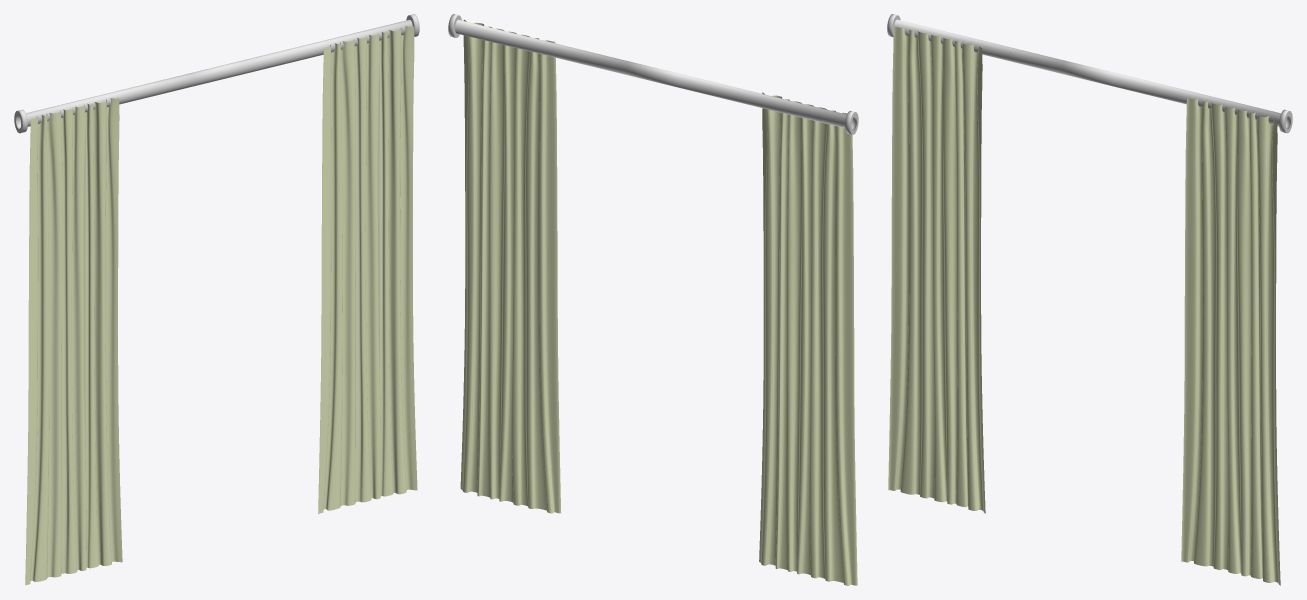
Rendered from gorden.fbx.
3 views of the same model, side by side, from view 1: azimuth 30°, elevation 25°; view 2: azimuth 150°, elevation 25°; view 3: azimuth 330°, elevation 25° (orthographic).
Parts seen in each view (by area): view 1: Arch60_011, Arch60_010, Sketchup; view 2: Arch60_011, Arch60_010, Sketchup; view 3: Arch60_011, Arch60_010, Sketchup.
Part boxes in pixels (left/top/right/bottom): Arch60_011: left=318, top=26, right=417, bottom=514; Arch60_010: left=25, top=98, right=122, bottom=585; Sketchup: left=14, top=14, right=419, bottom=133; Arch60_011: left=460, top=19, right=560, bottom=513; Arch60_010: left=759, top=92, right=857, bottom=585; Sketchup: left=448, top=14, right=858, bottom=134; Arch60_011: left=1181, top=98, right=1280, bottom=585; Arch60_010: left=888, top=26, right=985, bottom=513; Sketchup: left=887, top=14, right=1292, bottom=133.
Size of the model in its own units: 297 by 338 by 12.33.
